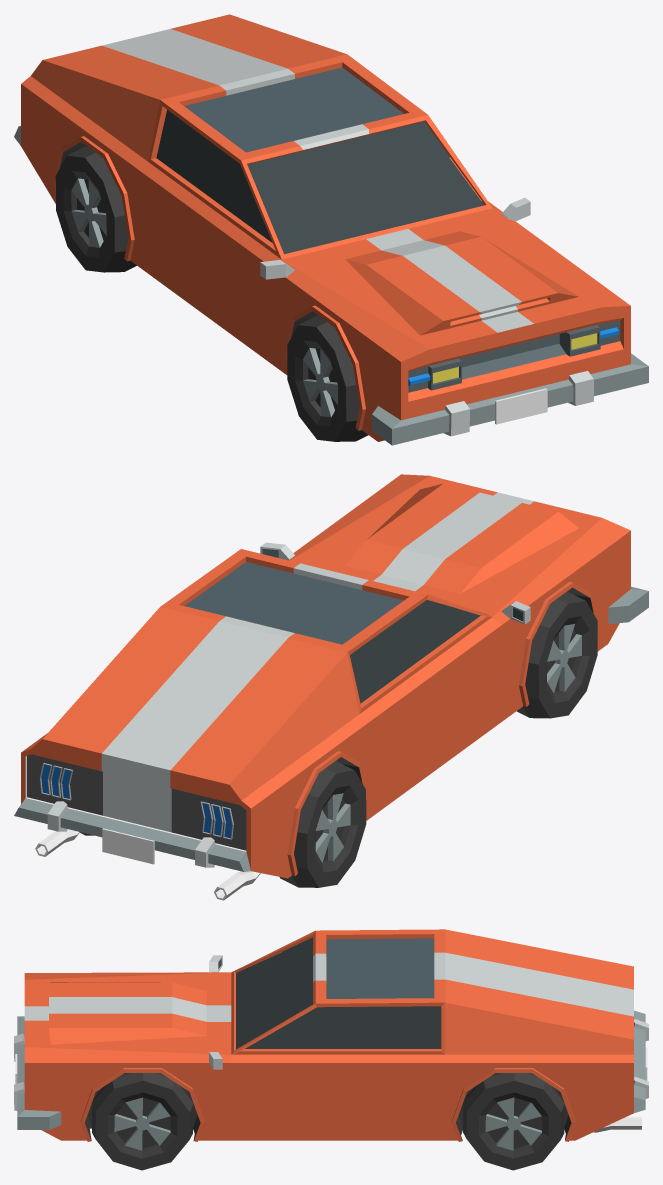
The model's file is muscle_car.fbx.
The picture shows the model from 3 angles, top to bottom: view 1: azimuth 30°, elevation 25°; view 2: azimuth 150°, elevation 25°; view 3: azimuth 270°, elevation 25°; orthographic projection. The views are drawn at different scales.
Parts seen in each view (by area): view 1: MuscleCar; view 2: MuscleCar; view 3: MuscleCar.
Part boxes in pixels (x1=…): MuscleCar: x1=14, y1=14, x2=648, y2=445; MuscleCar: x1=14, y1=474, x2=648, y2=900; MuscleCar: x1=14, y1=929, x2=648, y2=1170.
Bounding box in the file's own units: 51.05 × 36.42 × 132.
